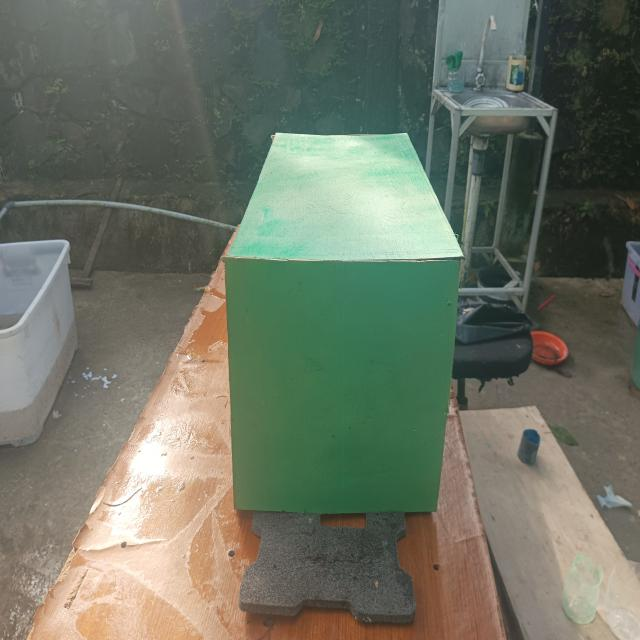green_box: (224, 118, 451, 520)
